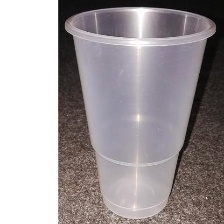glass: (61, 4, 219, 223)
